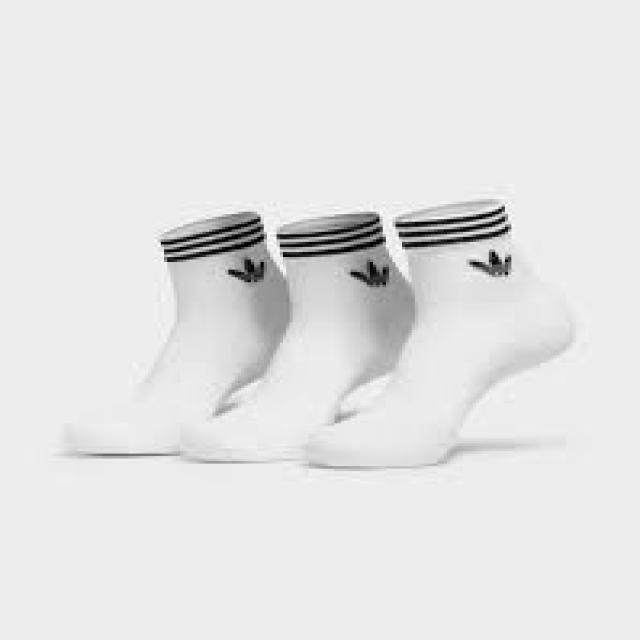sock: (302, 196, 576, 468), (177, 209, 415, 464), (61, 209, 290, 456)
